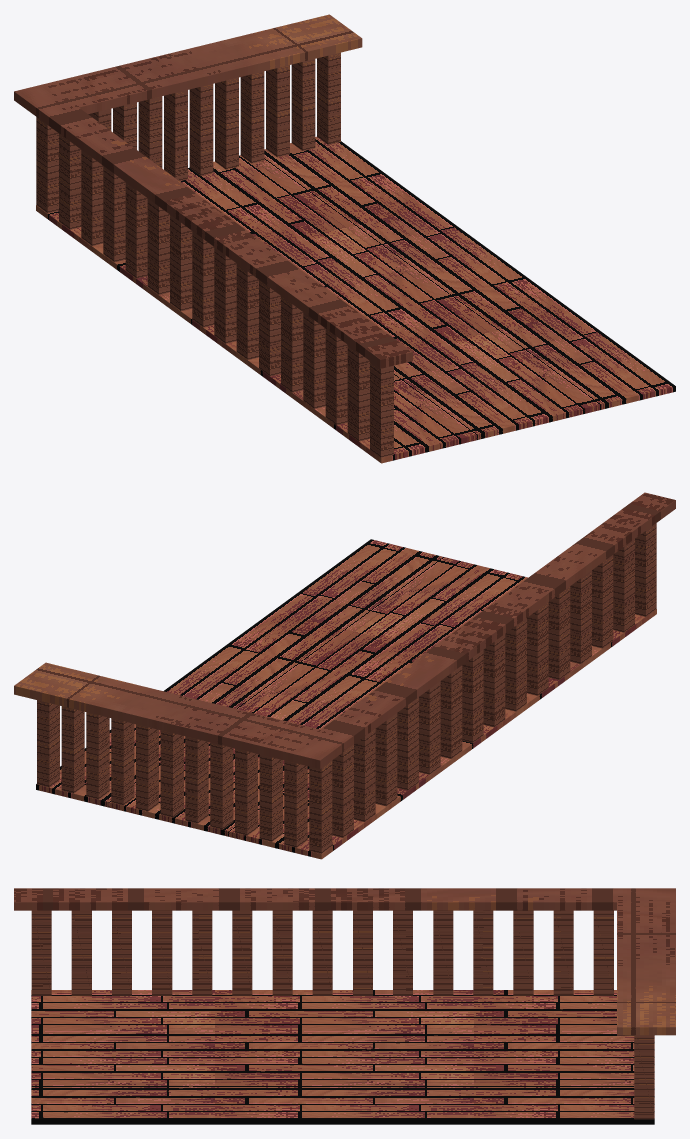
Rendered from balcón.glb.
The picture shows the model from 3 angles, top to bottom: view 1: azimuth 30°, elevation 25°; view 2: azimuth 150°, elevation 25°; view 3: azimuth 270°, elevation 25°; orthographic projection. The views are drawn at different scales.
Parts seen in each view (by area): view 1: Balcón; view 2: Balcón; view 3: Balcón.
Boxes of the visible parts, box(x1,y1,x2,y2) form: Balcón: box(14, 14, 675, 463); Balcón: box(14, 492, 675, 859); Balcón: box(14, 888, 675, 1124).
Bounding box in the file's own units: 14.7 × 5.04 × 29.59.
2 materials, 2 textured.
